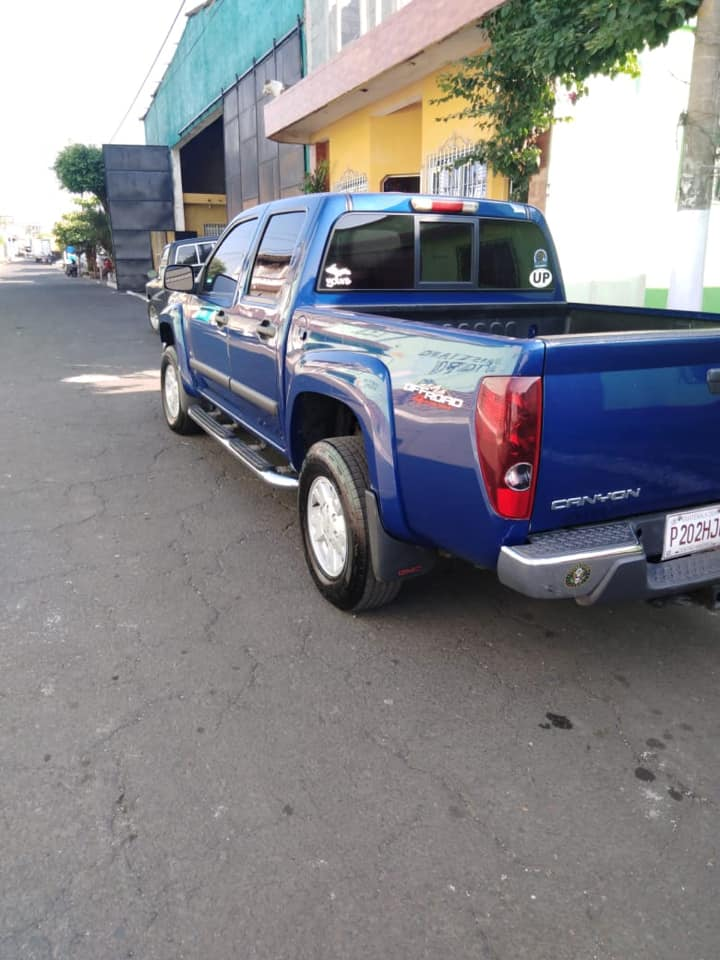pickup: (154, 195, 720, 620)
